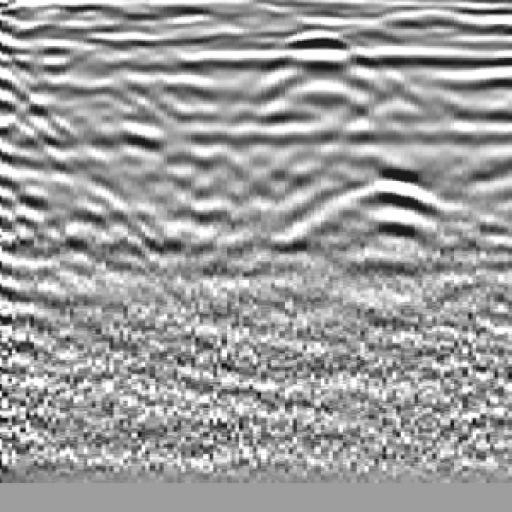metalic: (307, 147, 475, 295)
non-metallic: (230, 13, 426, 133)
nonmetalic: (1, 42, 108, 316)
